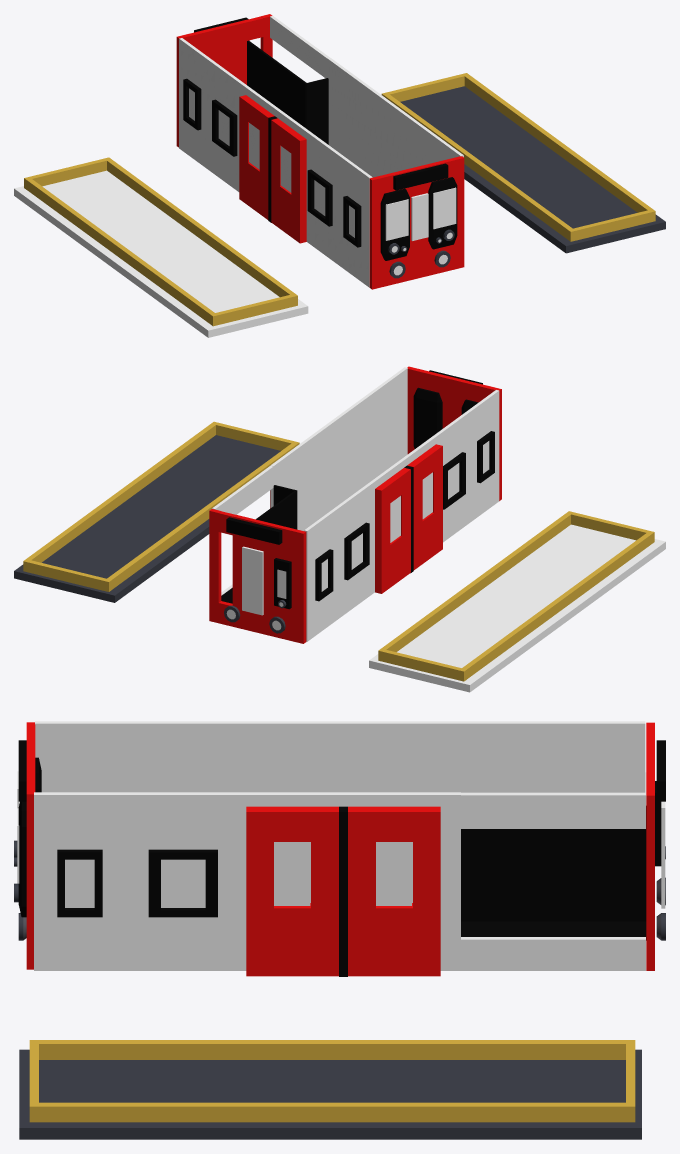
Rendered from tubetrain-cyd.glb.
3 views of the same model, one above another, from view 1: azimuth 30°, elevation 25°; view 2: azimuth 150°, elevation 25°; view 3: azimuth 270°, elevation 25° (orthographic). The views are drawn at different scales.
Visible parts, largest first — view 1: mergedBlocks(Clone); view 2: mergedBlocks(Clone); view 3: mergedBlocks(Clone).
Boxes of the visible parts, <box> form: mergedBlocks(Clone): <box>14,14,665,337</box>; mergedBlocks(Clone): <box>14,366,665,692</box>; mergedBlocks(Clone): <box>14,721,665,1139</box>.
Size of the model in its own units: 9.1 by 2.27 by 7.05.
Materials: 1 (1 with a texture image).
